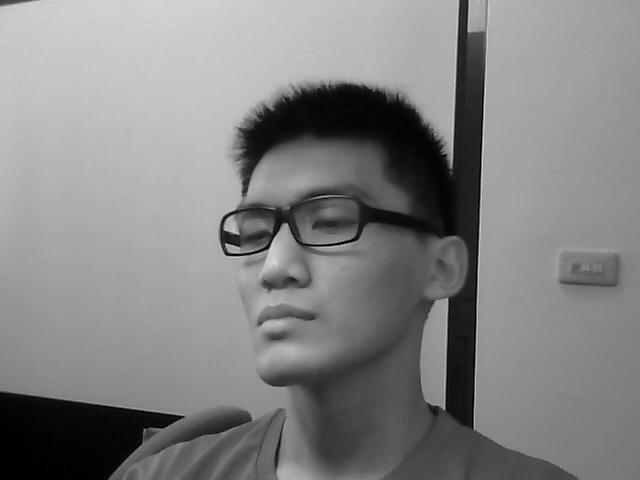eye_closed: (235, 191, 367, 257)
face: (234, 137, 425, 384)
